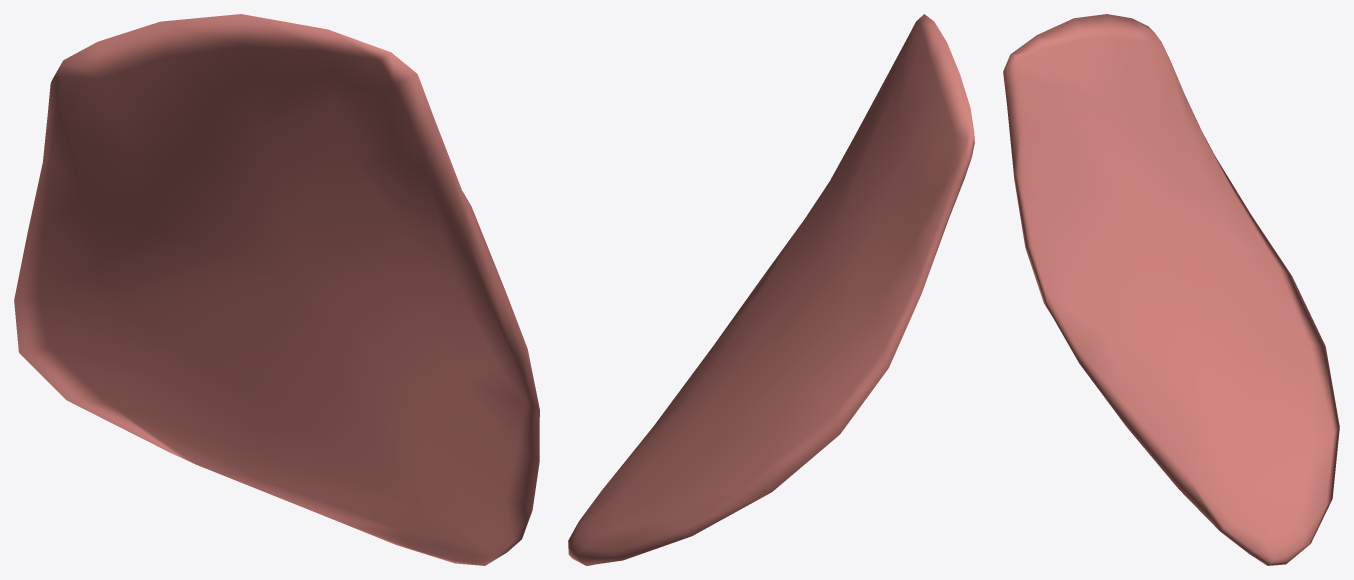
The picture shows the model from 3 angles, left to right: view 1: azimuth 30°, elevation 25°; view 2: azimuth 150°, elevation 25°; view 3: azimuth 270°, elevation 25°; orthographic projection. The views are drawn at different scales.
Parts seen in each view (by area): view 1: ZA_54936bc4100896be; view 2: ZA_54936bc4100896be; view 3: ZA_54936bc4100896be.
Part boxes in pixels (x1=…): ZA_54936bc4100896be: x1=14, y1=14, x2=539, y2=565; ZA_54936bc4100896be: x1=568, y1=14, x2=974, y2=565; ZA_54936bc4100896be: x1=1003, y1=14, x2=1339, y2=565.
Bounding box in the file's own units: 0.0131 × 0.0182 × 0.0127.
